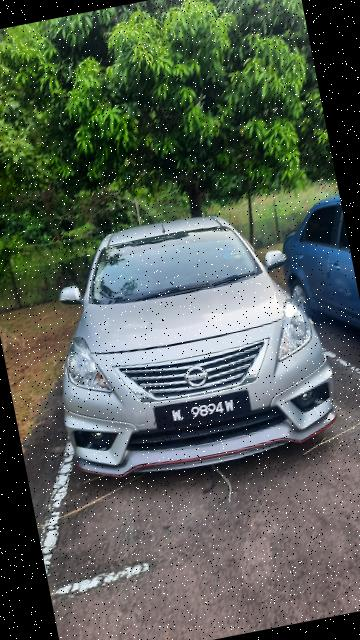License_Plate: (151, 388, 255, 437)
car: (20, 191, 346, 502)
